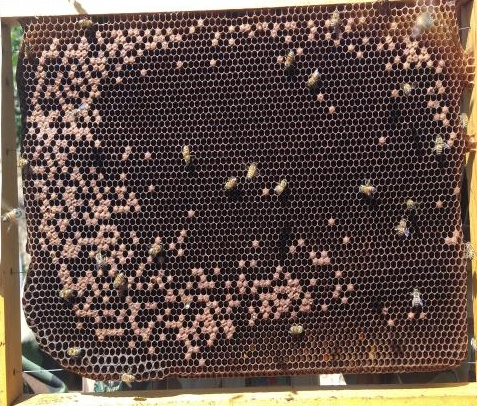cria: (22, 14, 380, 368), (212, 21, 462, 244)
